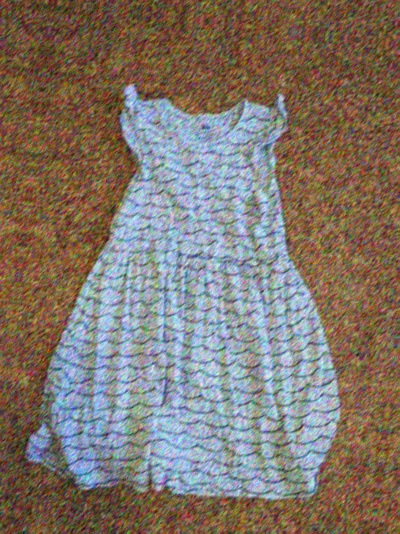Dress: (1, 26, 397, 534), (0, 0, 40, 496), (65, 0, 400, 22)
